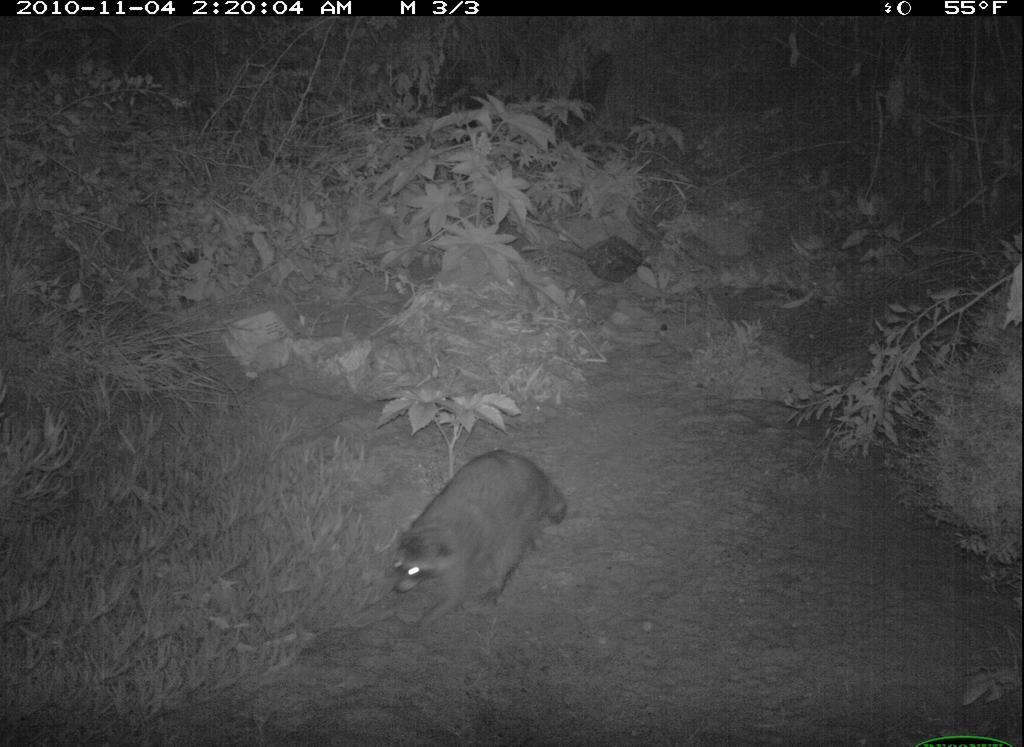raccoon: (391, 452, 584, 633)
